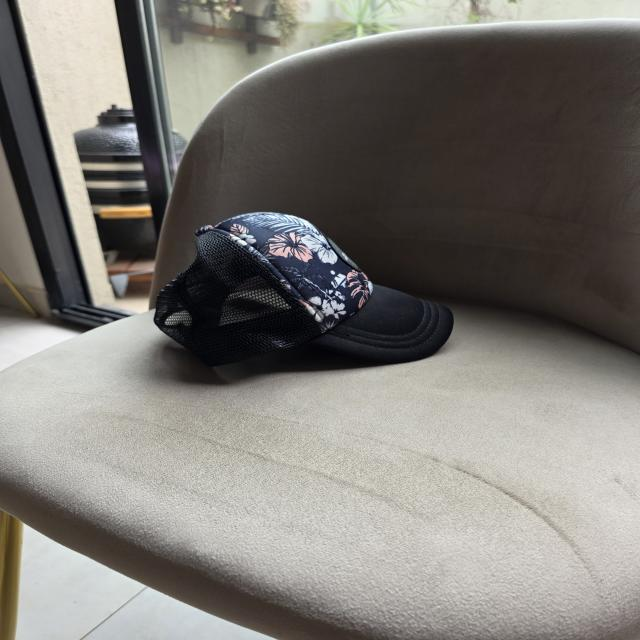Gorra: (152, 212, 458, 368), (446, 308, 465, 309)
